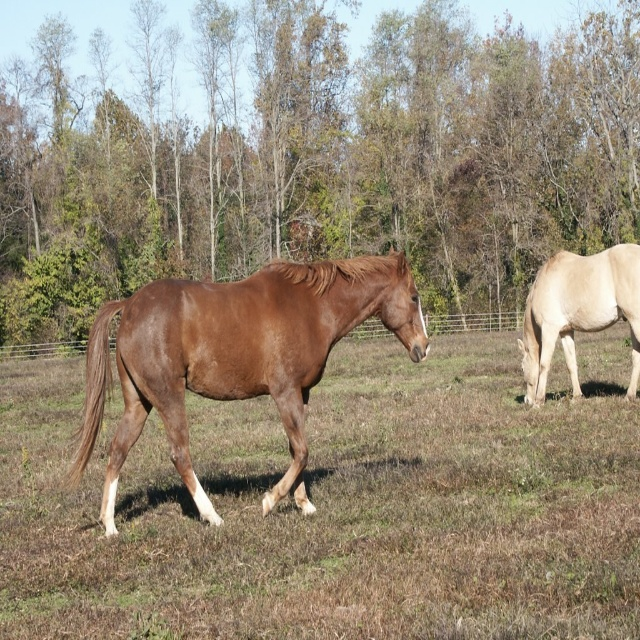Horse: (66, 242, 431, 537), (514, 246, 639, 413)
